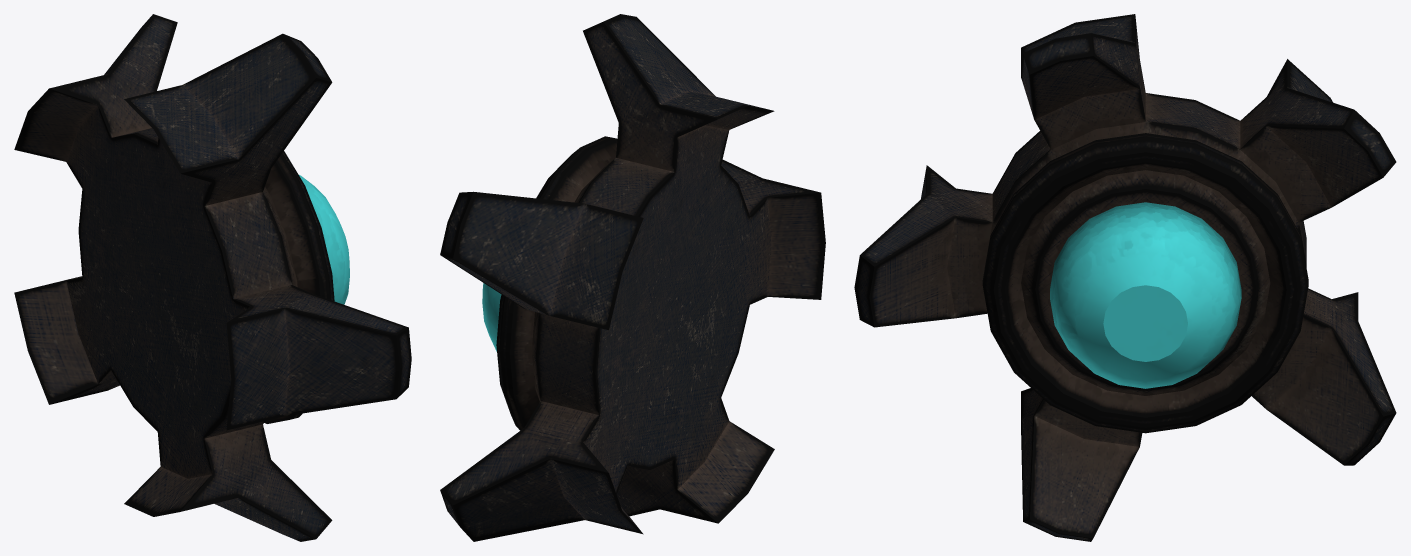
The model's file is Anchor Point 1.fbx.
3 views of the same model, side by side, from view 1: azimuth 30°, elevation 25°; view 2: azimuth 150°, elevation 25°; view 3: azimuth 270°, elevation 25° (orthographic).
Visible parts, largest first — view 1: Cylinder_2; view 2: Cylinder_2; view 3: Cylinder_2.
Boxes of the visible parts, <box> form: Cylinder_2: <box>14,14,411,541</box>; Cylinder_2: <box>440,14,825,541</box>; Cylinder_2: <box>854,14,1396,541</box>.
Bounding box in the file's own units: 265 × 604 × 584.
